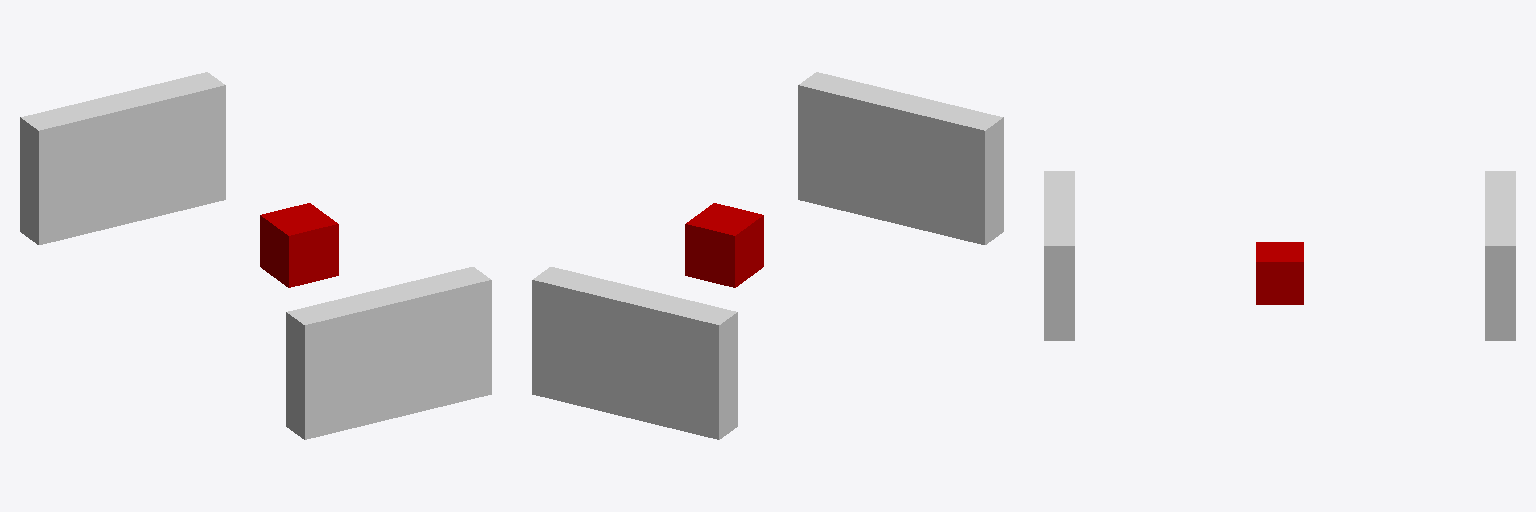
robot.urdf — abb_irb120_model:
<?xml version="1.0" encoding="utf-8"?>
<!-- =================================================================================== -->
<!-- |    This document was autogenerated by xacro from irb120_main.xacro              | -->
<!-- |    EDITING THIS FILE BY HAND IS NOT RECOMMENDED                                 | -->
<!-- =================================================================================== -->
<robot name="abb_irb120_model">
  <!-- Conversion were obtained from http://www.e-paint.co.uk/Lab_values.asp
       unless otherwise stated. -->
  <!-- link list -->
  <link name="base_link">
    <inertial>
      <mass value="6.215"/>
      <origin rpy="0 0 0" xyz="-0.04204 8.01E-05 0.07964"/>
      <inertia ixx="0.0247272" ixy="-8.0784E-05" ixz="0.00130902" iyy="0.0491285" iyz="-8.0419E-06" izz="0.0472376"/>
    </inertial>
    <visual>
      <origin rpy="0 0 0" xyz="0 0 0"/>
      <geometry>
        <mesh filename="package://irb120_description/meshes/visual/base_link.stl"/>
      </geometry>
      <material name="">
        <color rgba="0.9254902 0.9254902 0.9058824 1"/>
      </material>
    </visual>
    <collision>
      <origin rpy="0 0 0" xyz="0 0 0"/>
      <geometry>
        <mesh filename="package://irb120_description/meshes/visual/base_link.stl"/>
      </geometry>
      <material name="">
        <color rgba="1 1 0 1"/>
      </material>
    </collision>
  </link>
  <link name="link_1">
    <inertial>
      <mass value="3.067"/>
      <origin rpy="0 0 0" xyz="9.77E-05 -0.00012 0.23841"/>
      <inertia ixx="0.0142175" ixy="-1.28579E-05" ixz="-2.31364E-05" iyy="0.0144041" iyz="1.93404E-05" izz="0.0104533"/>
    </inertial>
    <visual>
      <origin rpy="0 0 0" xyz="0 0 0"/>
      <geometry>
        <mesh filename="package://irb120_description/meshes/visual/link_1.stl"/>
      </geometry>
      <material name="">
        <color rgba="0.9254902 0.9254902 0.9058824 1"/>
      </material>
    </visual>
    <collision>
      <origin rpy="0 0 0" xyz="0 0 0"/>
      <geometry>
        <mesh filename="package://irb120_description/meshes/visual/link_1.stl"/>
      </geometry>
      <material name="">
        <color rgba="1 1 0 1"/>
      </material>
    </collision>
  </link>
  <link name="link_2">
    <inertial>
      <mass value="3.909"/>
      <origin rpy="0 0 0" xyz="0.00078 -0.00212 0.10124"/>
      <inertia ixx="0.0603111" ixy="9.83431E-06" ixz="5.72407E-05" iyy="0.041569" iyz="-0.00050497" izz="0.0259548"/>
    </inertial>
    <visual>
      <origin rpy="0 0 0" xyz="0 0 0"/>
      <geometry>
        <mesh filename="package://irb120_description/meshes/visual/link_2.stl"/>
      </geometry>
      <material name="">
        <color rgba="0.9254902 0.9254902 0.9058824 1"/>
      </material>
    </visual>
    <collision>
      <origin rpy="0 0 0" xyz="0 0 0"/>
      <geometry>
        <mesh filename="package://irb120_description/meshes/visual/link_2.stl"/>
      </geometry>
      <material name="">
        <color rgba="1 1 0 1"/>
      </material>
    </collision>
  </link>
  <link name="link_3">
    <inertial>
      <mass value="2.944"/>
      <origin rpy="0 0 0" xyz="0.02281 0.00106 0.05791"/>
      <inertia ixx="0.00835606" ixy="-8.01545E-05" ixz="0.00142884" iyy="0.016713" iyz="-0.000182227" izz="0.0126984"/>
    </inertial>
    <visual>
      <origin rpy="0 0 0" xyz="0 0 0"/>
      <geometry>
        <mesh filename="package://irb120_description/meshes/visual/link_3.stl"/>
      </geometry>
      <material name="">
        <color rgba="0.9254902 0.9254902 0.9058824 1"/>
      </material>
    </visual>
    <collision>
      <origin rpy="0 0 0" xyz="0 0 0"/>
      <geometry>
        <mesh filename="package://irb120_description/meshes/visual/link_3.stl"/>
      </geometry>
      <material name="">
        <color rgba="1 1 0 1"/>
      </material>
    </collision>
  </link>
  <link name="link_4">
    <inertial>
      <mass value="1.328"/>
      <origin rpy="0 0 0" xyz="0.2247 0.00015 0.00041"/>
      <inertia ixx="0.00284661" ixy="-2.12765E-05" ixz="-1.6435E-05" iyy="0.00401346" iyz="1.31336E-05" izz="0.0052535"/>
    </inertial>
    <visual>
      <origin rpy="0 0 0" xyz="0 0 0"/>
      <geometry>
        <mesh filename="package://irb120_description/meshes/visual/link_4.stl"/>
      </geometry>
      <material name="">
        <color rgba="0.9254902 0.9254902 0.9058824 1"/>
      </material>
    </visual>
    <collision>
      <origin rpy="0 0 0" xyz="0 0 0"/>
      <geometry>
        <mesh filename="package://irb120_description/meshes/visual/link_4.stl"/>
      </geometry>
      <material name="">
        <color rgba="1 1 0 1"/>
      </material>
    </collision>
  </link>
  <link name="link_5">
    <inertial>
      <mass value="0.546"/>
      <origin rpy="0 0 0" xyz="-0.00109 3.68E-05 6.22E-05"/>
      <inertia ixx="0.000404891" ixy="1.61943E-06" ixz="8.46805E-07" iyy="0.000892825" iyz="-1.51792E-08" izz="0.000815468"/>
    </inertial>
    <visual>
      <origin rpy="0 0 0" xyz="0 0 0"/>
      <geometry>
        <mesh filename="package://irb120_description/meshes/visual/link_5.stl"/>
      </geometry>
      <material name="">
        <color rgba="0.9254902 0.9254902 0.9058824 1"/>
      </material>
    </visual>
    <collision>
      <origin rpy="0 0 0" xyz="0 0 0"/>
      <geometry>
        <mesh filename="package://irb120_description/meshes/visual/link_5.stl"/>
      </geometry>
      <material name="">
        <color rgba="1 1 0 1"/>
      </material>
    </collision>
  </link>
  <link name="link_6">
    <inertial>
      <mass value="0.137"/>
      <origin rpy="0 0 0" xyz="-0.00706 -0.00017 -1.32E-06"/>
      <inertia ixx="0.001" ixy="0" ixz="0" iyy="0.001" iyz="0" izz="0.001"/>
    </inertial>
    <visual>
      <origin rpy="0 0 0" xyz="0 0 0"/>
      <geometry>
        <mesh filename="package://irb120_description/meshes/visual/link_6.stl"/>
      </geometry>
      <material name="">
        <color rgba="0.1882353 0.1960784 0.2039216 1"/>
      </material>
    </visual>
    <collision>
      <origin rpy="0 0 0" xyz="0 0 0"/>
      <geometry>
        <mesh filename="package://irb120_description/meshes/visual/link_6.stl"/>
      </geometry>
      <material name="">
        <color rgba="1 1 0 1"/>
      </material>
    </collision>
  </link>
  <!-- end of link list -->
  <!-- joint list -->
  <joint name="joint_1" type="revolute">
    <origin rpy="0 0 0" xyz="0 0 0"/>
    <parent link="base_link"/>
    <child link="link_1"/>
    <limit effort="30" lower="-2.87979" upper="2.87979" velocity="4.36332"/>
    <axis xyz="0 0 1"/>
    <dynamics damping="1.0" friction="0.0"/>
  </joint>
  <joint name="joint_2" type="revolute">
    <origin rpy="0 0 0" xyz="0 0 0.29"/>
    <parent link="link_1"/>
    <child link="link_2"/>
    <limit effort="30" lower="-1.91986" upper="1.91986" velocity="4.36332"/>
    <axis xyz="0 1 0"/>
    <dynamics damping="1.0" friction="0.0"/>
  </joint>
  <joint name="joint_3" type="revolute">
    <origin rpy="0 0 0" xyz="0 0 0.27"/>
    <parent link="link_2"/>
    <child link="link_3"/>
    <limit effort="30" lower="-1.91986" upper="1.22173" velocity="4.36332"/>
    <axis xyz="0 1 0"/>
    <dynamics damping="1.0" friction="0.0"/>
  </joint>
  <joint name="joint_4" type="revolute">
    <origin rpy="0 0 0" xyz="0 0 0.07"/>
    <parent link="link_3"/>
    <child link="link_4"/>
    <limit effort="30" lower="-2.79253" upper="2.79253" velocity="5.58505"/>
    <axis xyz="1 0 0"/>
    <dynamics damping="1.0" friction="0.0"/>
  </joint>
  <joint name="joint_5" type="revolute">
    <origin rpy="0 0 0" xyz="0.302 0 0"/>
    <parent link="link_4"/>
    <child link="link_5"/>
    <limit effort="30" lower="-2.094395" upper="2.094395" velocity="5.58505"/>
    <axis xyz="0 1 0"/>
    <dynamics damping="1.0" friction="0.0"/>
  </joint>
  <joint name="joint_6" type="revolute">
    <origin rpy="0 0 0" xyz="0.072 0 0"/>
    <parent link="link_5"/>
    <child link="link_6"/>
    <limit effort="30" lower="-6.98132" upper="6.98132" velocity="7.33038"/>
    <axis xyz="1 0 0"/>
    <dynamics damping="1.0" friction="0.0"/>
  </joint>
  <!-- end of joint list -->


  <!-- ROS-Industrial 'flange' frame: attachment point for EEF models -->
  <link name="flange"/>
  <joint name="joint_6-flange" type="fixed">
    <origin rpy="0 0 0" xyz="0 0 0"/>
    <parent link="link_6"/>
    <child link="flange"/>
  </joint>
  <!-- ROS-Industrial 'tool0' frame: all-zeros tool frame -->
  <link name="tool0"/>
  <joint name="link_6-tool0" type="fixed">
    <origin rpy="0 1.57079632679 0" xyz="0 0 0"/>
    <parent link="flange"/>
    <child link="tool0"/>
  </joint>
  <link name="world"/>
  <joint name="fixed" type="fixed">
    <parent link="world"/>
    <child link="base_link"/>
    <origin rpy="0 0 0" xyz="0 0 0"/>
  </joint>

  <link name="robotiq_arg2f_base_link">
    <inertial>
      <origin rpy="0 0 0" xyz="8.625E-08 -4.6583E-06 0.03145"/>
      <mass value="0.22652"/>
      <inertia ixx="0.00020005" ixy="-4.2442E-10" ixz="-2.9069E-10" iyy="0.00017832" iyz="-3.4402E-08" izz="0.00013478"/>
    </inertial>
    <visual>
      <origin rpy="0 0 0" xyz="0 0 0"/>
      <geometry>
        <mesh filename="package://robotiq_2f_85_description/meshes/visual/robotiq_arg2f_85_base_link.dae" scale="0.001 0.001 0.001"/>
      </geometry>
      <material name="">
        <color rgba="0.1 0.1 0.1 1"/>
      </material>
    </visual>
    <collision>
      <origin rpy="0 0 0" xyz="0 0 0"/>
      <geometry>
        <mesh filename="package://robotiq_2f_85_description/meshes/visual/robotiq_arg2f_base_link.stl"/>
      </geometry>
    </collision>
  </link>
  <link name="left_outer_knuckle">
    <inertial>
        <origin xyz="-0.000200000000003065 0.0199435877845359 0.0292245259211331" rpy="0 0 0" />
        <mass value="0.00853198276973456" />
        <inertia ixx="2.89328108496468E-06" ixy="-1.57935047237397E-19" ixz="-1.93980378593255E-19" iyy="1.86719750325683E-06" iyz="-1.21858577871576E-06" izz="1.21905238907251E-06" />
        </inertial>
    <visual>
      <origin rpy="0 0 0" xyz="0 0 0"/>
      <geometry>
        <mesh filename="package://robotiq_2f_85_description/meshes/visual/robotiq_arg2f_85_outer_knuckle.dae" scale="0.001 0.001 0.001"/>
      </geometry>
      <material name="">
        <color rgba="0.792156862745098 0.819607843137255 0.933333333333333 1"/>
      </material>
    </visual>
    <collision>
      <origin rpy="0 0 0" xyz="0 0 0"/>
      <geometry>
        <mesh filename="package://robotiq_2f_85_description/meshes/visual/robotiq_arg2f_85_outer_knuckle.dae" scale="0.001 0.001 0.001"/>
      </geometry>
    </collision>
  </link>
  <link name="left_outer_finger">
    <inertial>
        <origin xyz="0.00030115855001899 0.0373907951953854 -0.0208027427000385" rpy="0 0 0" />
        <mass value="0.022614240507152" />
        <inertia ixx="1.52518312458174E-05" ixy="9.76583423954399E-10" ixz="-5.43838577022588E-10" iyy="6.17694243867776E-06" iyz="6.78636130740228E-06" izz="1.16494917907219E-05" />
        </inertial>
    <visual>
      <origin rpy="0 0 0" xyz="0 0 0"/>
      <geometry>
        <mesh filename="package://robotiq_2f_85_description/meshes/visual/robotiq_arg2f_85_outer_finger.dae" scale="0.001 0.001 0.001"/>
      </geometry>
      <material name="">
        <color rgba="0.1 0.1 0.1 1"/>
      </material>
    </visual>
    <collision>
      <origin rpy="0 0 0" xyz="0 0 0"/>
      <geometry>
        <mesh filename="package://robotiq_2f_85_description/meshes/visual/robotiq_arg2f_85_outer_finger.dae" scale="0.001 0.001 0.001"/>
      </geometry>
    </collision>
  </link>
  <link name="left_inner_finger">
    <inertial>
        <origin xyz="0.000299999999999317 0.0160078233491243 -0.0136945669206257" rpy="0 0 0" />
        <mass value="0.0104003125914103" />
        <inertia ixx="2.71909453810972E-06" ixy="1.35402465472579E-21" ixz="-7.1817349065269E-22" iyy="7.69100314106116E-07" iyz="6.74715432769696E-07" izz="2.30315190420171E-06" />
        </inertial>
    <visual>
      <origin rpy="0 0 0" xyz="0 0 0"/>
      <geometry>
        <mesh filename="package://robotiq_2f_85_description/meshes/visual/robotiq_arg2f_85_inner_finger.dae" scale="0.001 0.001 0.001"/>
      </geometry>
      <material name="">
        <color rgba="0.1 0.1 0.1 1"/>
      </material>
    </visual>
    <collision>
      <origin rpy="0 0 0" xyz="0 0 0"/>
      <geometry>
        <mesh filename="package://robotiq_2f_85_description/meshes/visual/robotiq_arg2f_85_inner_finger.dae" scale="0.001 0.001 0.001"/>
      </geometry>
    </collision>
  </link>
  <link name="left_inner_finger_pad">
    <visual>
      <origin rpy="0 0 0" xyz="0 0 0"/>
      <geometry>
        <box size="0.022 0.00635 0.0375"/>
      </geometry>
      <material name="">
        <color rgba="0.9 0.9 0.9 1"/>
      </material>
    </visual>
    <collision>
      <origin rpy="0 0 0" xyz="0 0 0"/>
      <geometry>
        <box size="0.022 0.00635 0.0375"/>
      </geometry>
      <material name="">
        <color rgba="0.9 0.0 0.0 1"/>
      </material>
    </collision>
  </link>
  <link name="left_inner_knuckle">
    <inertial>
        <origin xyz="0.000123011831763771 0.0507850843201817 0.00103968640075166" rpy="0 0 0" />
       <mass value="0.0271177346495152" />
        <inertia ixx="2.61910379223783E-05" ixy="-2.43616858946494E-07" ixz="-6.37789906117123E-09" iyy="2.8270243746167E-06" iyz="-5.37200748039765E-07" izz="2.83695868220296E-05" />
        </inertial>
    <visual>
      <origin rpy="0 0 0" xyz="0 0 0"/>
      <geometry>
        <mesh filename="package://robotiq_2f_85_description/meshes/visual/robotiq_arg2f_85_inner_knuckle.dae" scale="0.001 0.001 0.001"/>
      </geometry>
      <material name="">
        <color rgba="0.1 0.1 0.1 1"/>
      </material>
    </visual>
    <collision>
      <origin rpy="0 0 0" xyz="0 0 0"/>
      <geometry>
        <mesh filename="package://robotiq_2f_85_description/meshes/visual/robotiq_arg2f_85_inner_knuckle.dae" scale="0.001 0.001 0.001"/>
      </geometry>
    </collision>
  </link>
  <link name="right_outer_knuckle">
    <inertial>
        <origin xyz="-0.000200000000003065 0.0199435877845359 0.0292245259211331" rpy="0 0 0" />
        <mass value="0.00853198276973456" />
        <inertia ixx="2.89328108496468E-06" ixy="-1.57935047237397E-19" ixz="-1.93980378593255E-19" iyy="1.86719750325683E-06" iyz="-1.21858577871576E-06" izz="1.21905238907251E-06" />
        </inertial>
    <visual>
      <origin rpy="0 0 0" xyz="0 0 0"/>
      <geometry>
        <mesh filename="package://robotiq_2f_85_description/meshes/visual/robotiq_arg2f_85_outer_knuckle.dae" scale="0.001 0.001 0.001"/>
      </geometry>
      <material name="">
        <color rgba="0.792156862745098 0.819607843137255 0.933333333333333 1"/>
      </material>
    </visual>
    <collision>
      <origin rpy="0 0 0" xyz="0 0 0"/>
      <geometry>
        <mesh filename="package://robotiq_2f_85_description/meshes/visual/robotiq_arg2f_85_outer_knuckle.dae" scale="0.001 0.001 0.001"/>
      </geometry>
    </collision>
  </link>
  <link name="right_outer_finger">
    <inertial>
        <origin xyz="0.00030115855001899 0.0373907951953854 -0.0208027427000385" rpy="0 0 0" />
        <mass value="0.022614240507152" />
        <inertia ixx="1.52518312458174E-05" ixy="9.76583423954399E-10" ixz="-5.43838577022588E-10" iyy="6.17694243867776E-06" iyz="6.78636130740228E-06" izz="1.16494917907219E-05" />
        </inertial>
    <visual>
      <origin rpy="0 0 0" xyz="0 0 0"/>
      <geometry>
        <mesh filename="package://robotiq_2f_85_description/meshes/visual/robotiq_arg2f_85_outer_finger.dae" scale="0.001 0.001 0.001"/>
      </geometry>
      <material name="">
        <color rgba="0.1 0.1 0.1 1"/>
      </material>
    </visual>
    <collision>
      <origin rpy="0 0 0" xyz="0 0 0"/>
      <geometry>
        <mesh filename="package://robotiq_2f_85_description/meshes/visual/robotiq_arg2f_85_outer_finger.dae" scale="0.001 0.001 0.001"/>
      </geometry>
    </collision>
  </link>
  <link name="right_inner_finger">
    <inertial>
        <origin xyz="0.000299999999999317 0.0160078233491243 -0.0136945669206257" rpy="0 0 0" />
        <mass value="0.0104003125914103" />
        <inertia ixx="2.71909453810972E-06" ixy="1.35402465472579E-21" ixz="-7.1817349065269E-22" iyy="7.69100314106116E-07" iyz="6.74715432769696E-07" izz="2.30315190420171E-06" />
        </inertial>
    <visual>
      <origin rpy="0 0 0" xyz="0 0 0"/>
      <geometry>
        <mesh filename="package://robotiq_2f_85_description/meshes/visual/robotiq_arg2f_85_inner_finger.dae" scale="0.001 0.001 0.001"/>
      </geometry>
      <material name="">
        <color rgba="0.1 0.1 0.1 1"/>
      </material>
    </visual>
    <collision>
      <origin rpy="0 0 0" xyz="0 0 0"/>
      <geometry>
        <mesh filename="package://robotiq_2f_85_description/meshes/visual/robotiq_arg2f_85_inner_finger.dae" scale="0.001 0.001 0.001"/>
      </geometry>
    </collision>
  </link>
  <link name="right_inner_finger_pad">
    <visual>
      <origin rpy="0 0 0" xyz="0 0 0"/>
      <geometry>
        <box size="0.022 0.00635 0.0375"/>
      </geometry>
      <material name="">
        <color rgba="0.9 0.9 0.9 1"/>
      </material>
    </visual>
    <collision>
      <origin rpy="0 0 0" xyz="0 0 0"/>
      <geometry>
        <box size="0.022 0.00635 0.0375"/>
      </geometry>
      <material name="">
        <color rgba="0.9 0.0 0.0 1"/>
      </material>
    </collision>
  </link>
  <link name="right_inner_knuckle">
    <inertial>
        <origin xyz="0.000123011831763771 0.0507850843201817 0.00103968640075166" rpy="0 0 0" />
       <mass value="0.0271177346495152" />
        <inertia ixx="2.61910379223783E-05" ixy="-2.43616858946494E-07" ixz="-6.37789906117123E-09" iyy="2.8270243746167E-06" iyz="-5.37200748039765E-07" izz="2.83695868220296E-05" />
        </inertial>
    <visual>
      <origin rpy="0 0 0" xyz="0 0 0"/>
      <geometry>
        <mesh filename="package://robotiq_2f_85_description/meshes/visual/robotiq_arg2f_85_inner_knuckle.dae" scale="0.001 0.001 0.001"/>
      </geometry>
      <material name="">
        <color rgba="0.1 0.1 0.1 1"/>
      </material>
    </visual>
    <collision>
      <origin rpy="0 0 0" xyz="0 0 0"/>
      <geometry>
        <mesh filename="package://robotiq_2f_85_description/meshes/visual/robotiq_arg2f_85_inner_knuckle.dae" scale="0.001 0.001 0.001"/>
      </geometry>
    </collision>
  </link>
  <joint name="finger_joint" type="revolute">
    <origin rpy="0 0 3.14159265359" xyz="0 -0.0306011 0.054904"/>
    <parent link="robotiq_arg2f_base_link"/>
    <child link="left_outer_knuckle"/>
    <axis xyz="1 0 0"/>
    <limit effort="1000" lower="0" upper="0.8" velocity="2.0"/>
  </joint>
  <joint name="left_outer_finger_joint" type="fixed">
    <origin rpy="0 0 0" xyz="0 0.0315 -0.0041"/>
    <parent link="left_outer_knuckle"/>
    <child link="left_outer_finger"/>
    <axis xyz="1 0 0"/>
  </joint>
  <joint name="left_inner_knuckle_joint" type="revolute">
    <!-- <origin xyz="0 ${reflect * -0.0127} 0.06142" rpy="${pi / 2 + .725} 0 ${(reflect - 1) * pi / 2}" /> -->
    <origin rpy="0 0 3.14159265359" xyz="0 -0.0127 0.06142"/>
    <parent link="robotiq_arg2f_base_link"/>
    <child link="left_inner_knuckle"/>
    <axis xyz="1 0 0"/>
    <limit effort="1000" lower="0" upper="0.8757" velocity="2.0"/>
    <mimic joint="finger_joint" multiplier="1" offset="0"/>
  </joint>
  <joint name="left_inner_finger_joint" type="revolute">
    <origin rpy="0 0 0" xyz="0 0.0061 0.0471"/>
    <parent link="left_outer_finger"/>
    <child link="left_inner_finger"/>
    <axis xyz="1 0 0"/>
    <limit effort="1000" lower="-0.8757" upper="0.8757" velocity="2.0"/>
    <mimic joint="finger_joint" multiplier="-1" offset="0"/>
  </joint>
  <joint name="left_inner_finger_pad_joint" type="fixed">
    <origin rpy="0 0 0" xyz="0 -0.0220203446692936 0.03242"/>
    <parent link="left_inner_finger"/>
    <child link="left_inner_finger_pad"/>
    <axis xyz="0 0 1"/>
  </joint>
  <joint name="right_outer_knuckle_joint" type="revolute">
    <origin rpy="0 0 0" xyz="0 0.0306011 0.054904"/>
    <parent link="robotiq_arg2f_base_link"/>
    <child link="right_outer_knuckle"/>
    <axis xyz="1 0 0"/>
    <limit effort="1000" lower="0" upper="0.81" velocity="2.0"/>
    <mimic joint="finger_joint" multiplier="1" offset="0"/>
  </joint>
  <joint name="right_outer_finger_joint" type="fixed">
    <origin rpy="0 0 0" xyz="0 0.0315 -0.0041"/>
    <parent link="right_outer_knuckle"/>
    <child link="right_outer_finger"/>
    <axis xyz="1 0 0"/>
  </joint>
  <joint name="right_inner_knuckle_joint" type="revolute">
    <!-- <origin xyz="0 ${reflect * -0.0127} 0.06142" rpy="${pi / 2 + .725} 0 ${(reflect - 1) * pi / 2}" /> -->
    <origin rpy="0 0 0.0" xyz="0 0.0127 0.06142"/>
    <parent link="robotiq_arg2f_base_link"/>
    <child link="right_inner_knuckle"/>
    <axis xyz="1 0 0"/>
    <limit effort="1000" lower="0" upper="0.8757" velocity="2.0"/>
    <mimic joint="finger_joint" multiplier="1" offset="0"/>
  </joint>
  <joint name="right_inner_finger_joint" type="revolute">
    <origin rpy="0 0 0" xyz="0 0.0061 0.0471"/>
    <parent link="right_outer_finger"/>
    <child link="right_inner_finger"/>
    <axis xyz="1 0 0"/>
    <limit effort="1000" lower="-0.8757" upper="0.8757" velocity="2.0"/>
    <mimic joint="finger_joint" multiplier="-1" offset="0"/>
  </joint>
  <joint name="right_inner_finger_pad_joint" type="fixed">
    <origin rpy="0 0 0" xyz="0 -0.0220203446692936 0.03242"/>
    <parent link="right_inner_finger"/>
    <child link="right_inner_finger_pad"/>
    <axis xyz="0 0 1"/>
  </joint>
  <transmission name="finger_joint_trans">
    <type>transmission_interface/SimpleTransmission</type>
    <joint name="finger_joint">
      <hardwareInterface>PositionJointInterface</hardwareInterface>
    </joint>
    <actuator name="finger_joint_motor">
      <mechanicalReduction>1</mechanicalReduction>
    </actuator>
  </transmission>
  <link name="coupling_link">
    <visual>
      <origin rpy="0 0 1.57079632679" xyz="0.037 -0.037 0"/>
      <geometry>
        <mesh filename="package://robotiq_2f_85_description/meshes/visual/robotiq_gripper_couplingm.stl" />
      </geometry>
      <material name="">
        <color rgba="0.1 0.1 0.1 1"/>
      </material>
    </visual>
    <collision>
      <origin rpy="0 0 0" xyz="-0.037 -0.037 0"/>
      <geometry>
        <mesh filename="package://robotiq_2f_85_description/meshes/visual/robotiq_gripper_couplingm.stl"/>
      </geometry>
    </collision>
  </link>
  <joint name="coupling_joint" type="fixed">
    <origin rpy="0 0 0" xyz="0 0 0.011"/>
    <parent link="coupling_link"/>
    <child link="robotiq_arg2f_base_link"/>
  </joint>

  <joint name="irb120_support_gripper" type="fixed">
    <parent link="tool0"/>
    <child link="coupling_link"/>
    <origin rpy="0 0 0" xyz="0 0 0"/>
  </joint>
  <!-- end effect point -->
  <joint name="end_effect_point" type="fixed">
    <origin rpy="0 0 0" xyz="0 0 0.15"/>
    <parent link="tool0"/>
    <child link="end_effect_point"/>
  </joint>
  <!-- end effect point -->
  <link name="end_effect_point">
    <visual>
      <origin rpy="0 0 0" xyz="0 0 0"/>
      <geometry>
        <box size="0.01 0.01 0.01"/>
      </geometry>
      <material name="">
        <color rgba="0.8 0.0 0.0 1.0"/>
      </material>
    </visual>
    <inertial>
      <origin rpy="0 0 0" xyz="0.0 0.0 0.0"/>
      <mass value="0.001"/>
      <inertia ixx="1.0e-06" ixy="0.0" ixz="0.0" iyy="1.0e-06" iyz="0.0" izz="1.0e-06"/>
    </inertial>
  </link>
</robot>

--- Render facts (derived) ---
3 views of the same robot in one strip: view 1: azimuth 30°, elevation 25°; view 2: azimuth 150°, elevation 25°; view 3: azimuth 270°, elevation 25° (orthographic).
Model abb_irb120_model with 23 links and 22 joints (12 revolute, 10 fixed), rooted at world, posed all joints at 0.
Links seen in each view (by area): view 1: left_inner_finger_pad, right_inner_finger_pad, end_effect_point; view 2: left_inner_finger_pad, right_inner_finger_pad, end_effect_point; view 3: left_inner_finger_pad, right_inner_finger_pad, end_effect_point.
Link boxes in pixels (left/top/right/bottom): left_inner_finger_pad: left=286, top=267, right=491, bottom=439; right_inner_finger_pad: left=20, top=72, right=225, bottom=244; end_effect_point: left=260, top=203, right=338, bottom=287; left_inner_finger_pad: left=798, top=72, right=1003, bottom=244; right_inner_finger_pad: left=532, top=267, right=737, bottom=439; end_effect_point: left=685, top=203, right=763, bottom=287; left_inner_finger_pad: left=1044, top=171, right=1074, bottom=340; right_inner_finger_pad: left=1485, top=171, right=1515, bottom=340; end_effect_point: left=1256, top=242, right=1303, bottom=304.
Bounding box of the posed robot: 0.0375 × 0.0987 × 0.022 m (x, y, z).
0 mesh visuals loaded from 13 distinct referenced files (none loaded); not drawn: 17 (reference not matched to a file when rendering).